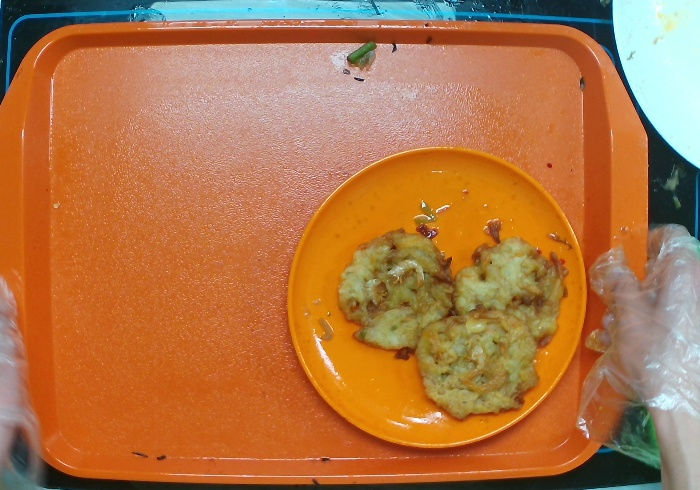HZYJPL-Ju_Huang_Yuan_Pan: (282, 139, 606, 456)
